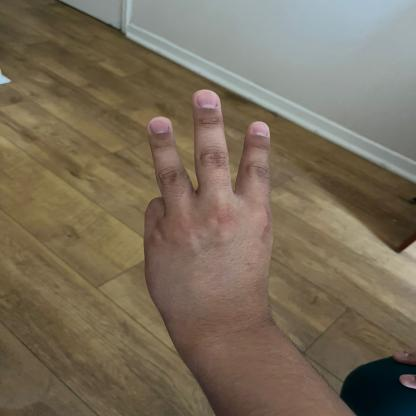W: (137, 84, 278, 318)
